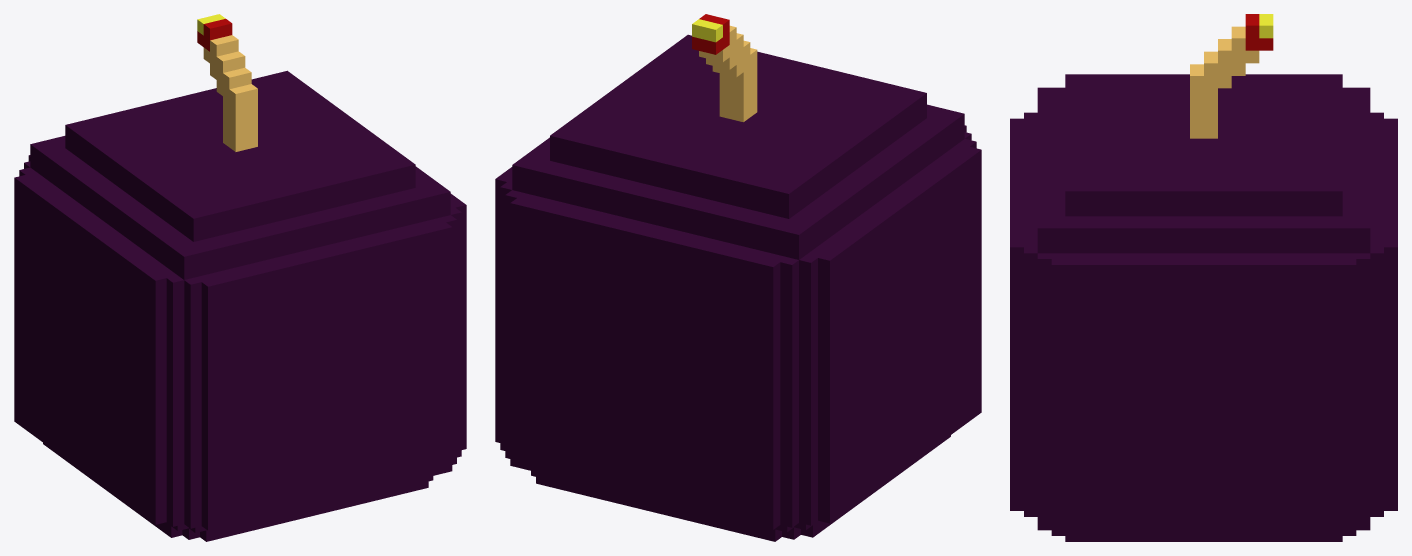
Rendered from bomb_circle.obj.
3 renders of one model, left to right at view 1: azimuth 30°, elevation 25°; view 2: azimuth 150°, elevation 25°; view 3: azimuth 270°, elevation 25°, orthographic. The views are drawn at different scales.
Size of the model in its own units: 2.8 by 3.6 by 2.8.
Materials: 1 (1 with a texture image).
